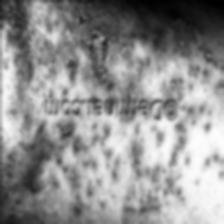Toxin: (82, 25, 114, 87), (122, 186, 160, 218), (160, 76, 182, 110), (62, 22, 78, 50), (64, 53, 78, 75)
